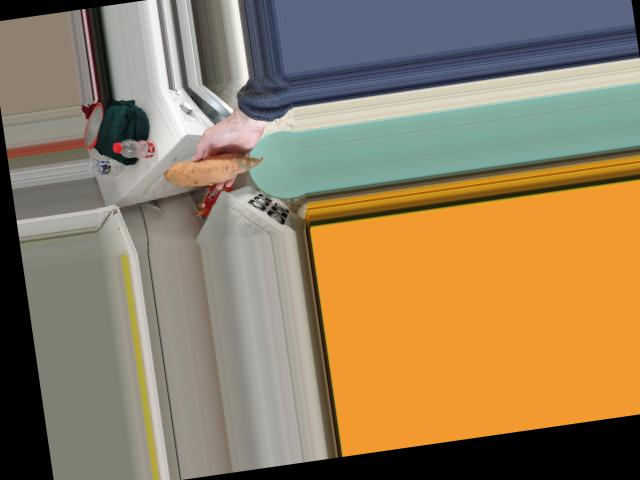sweet_potato: (173, 145, 245, 185)
